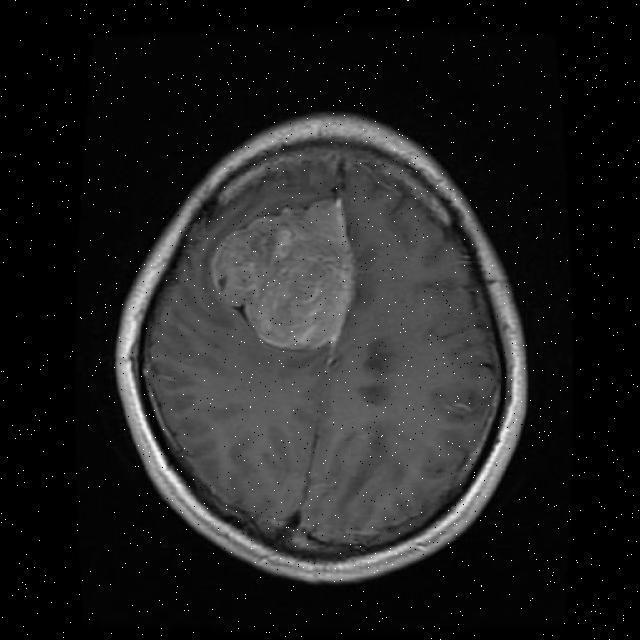Meningioma: (212, 198, 354, 349)
